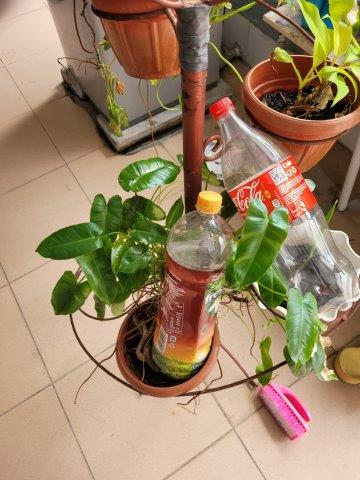botolplastik: (210, 98, 360, 321), (159, 193, 237, 376)
